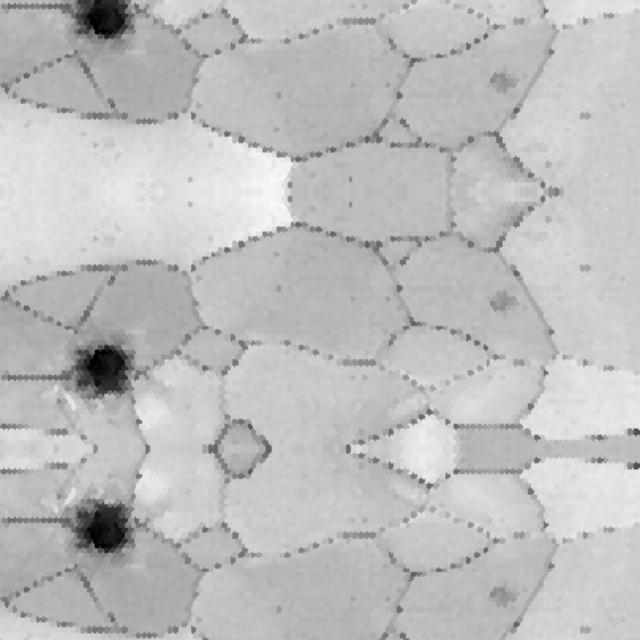good_void: (68, 326, 150, 403), (68, 495, 150, 571), (68, 0, 150, 56), (489, 289, 520, 313), (489, 69, 520, 93), (489, 585, 520, 608), (576, 261, 594, 275), (576, 107, 594, 121), (576, 623, 594, 637), (271, 604, 289, 618), (271, 280, 289, 293), (271, 89, 289, 102), (345, 197, 357, 211), (345, 171, 357, 185), (185, 198, 195, 211), (185, 171, 195, 184), (285, 192, 295, 204), (285, 178, 295, 190), (132, 416, 145, 425), (132, 472, 145, 481), (393, 282, 402, 293), (393, 89, 402, 100), (393, 604, 402, 615)
